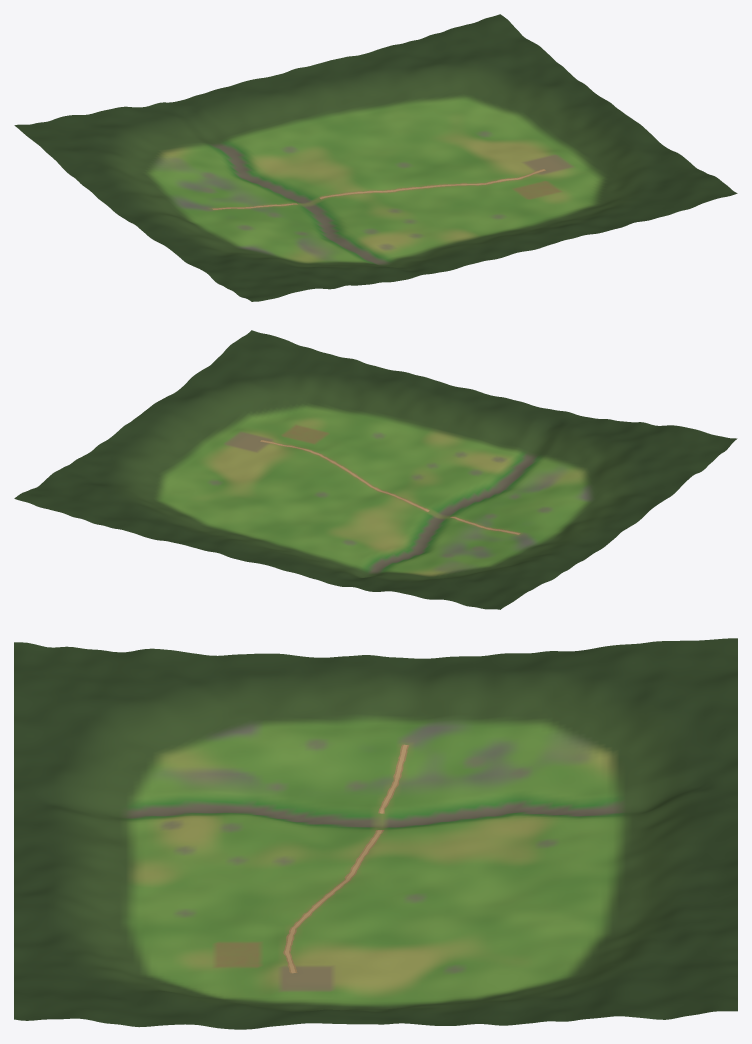
File: terrain.glb
3 renders of one model, top to bottom at view 1: azimuth 30°, elevation 25°; view 2: azimuth 150°, elevation 25°; view 3: azimuth 270°, elevation 25°, orthographic. The views are drawn at different scales.
Parts seen in each view (by area): view 1: terrain, path; view 2: terrain, path; view 3: terrain, path.
Part boxes in pixels (x1,y1,x2,y2): terrain: [14, 14, 737, 301]; path: [212, 169, 545, 209]; terrain: [14, 330, 737, 609]; path: [260, 440, 520, 534]; terrain: [14, 638, 737, 1029]; path: [283, 744, 408, 973].
Bounding box in the file's own units: 260 × 18.74 × 220.
